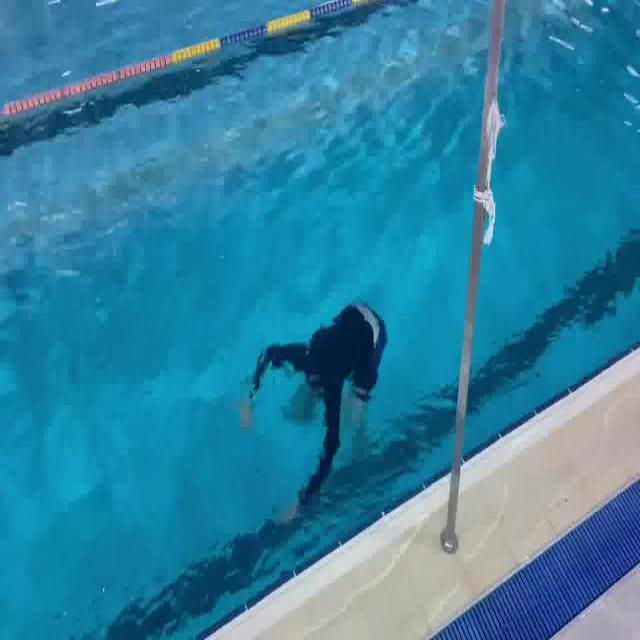Drowning: (213, 250, 416, 516)
